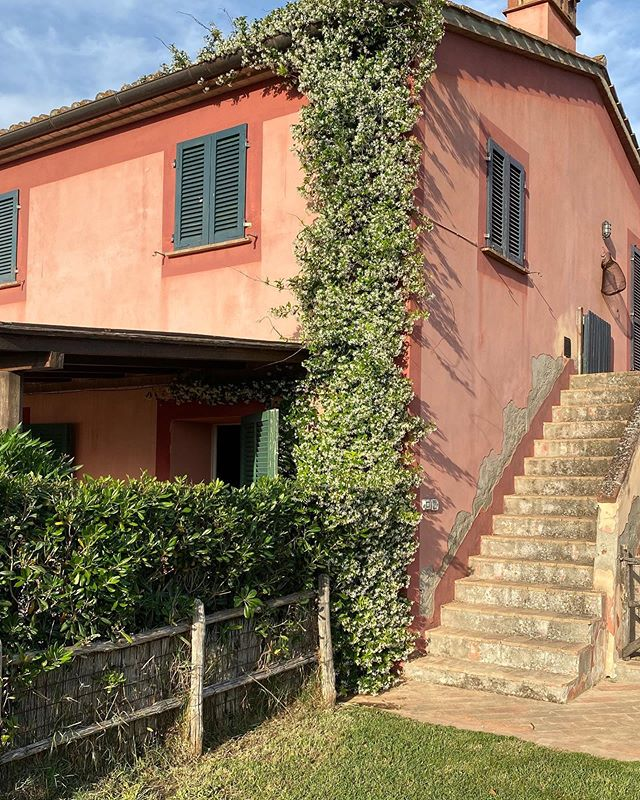building: (10, 1, 640, 783)
